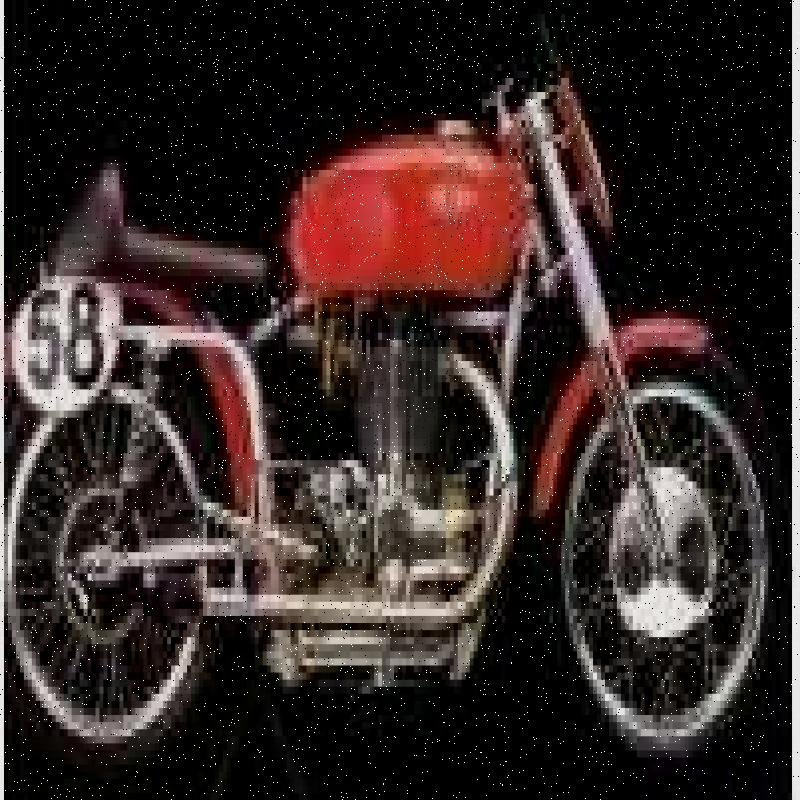bike: (6, 37, 796, 800)
